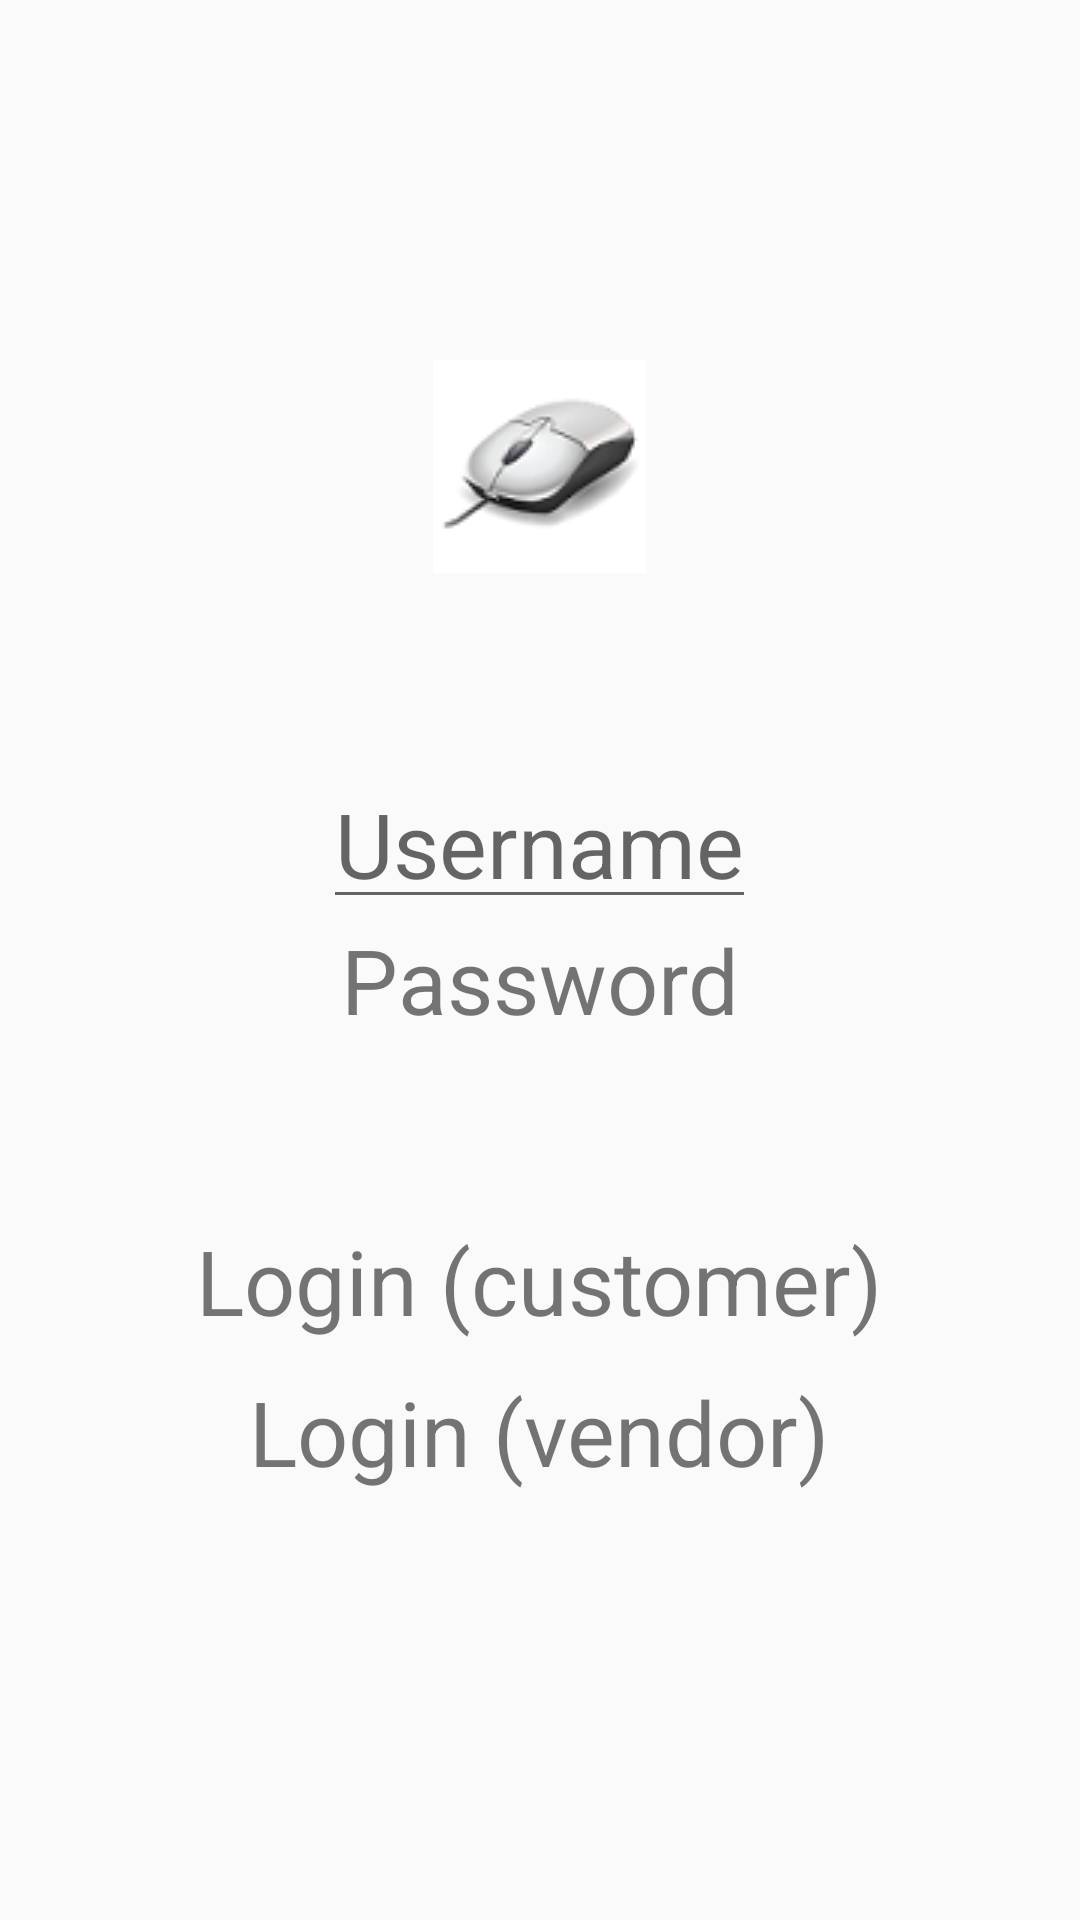

Screen size 1080 × 1920. Icon name, then its center in pixels as (x,y):
mouse: (540,465)
